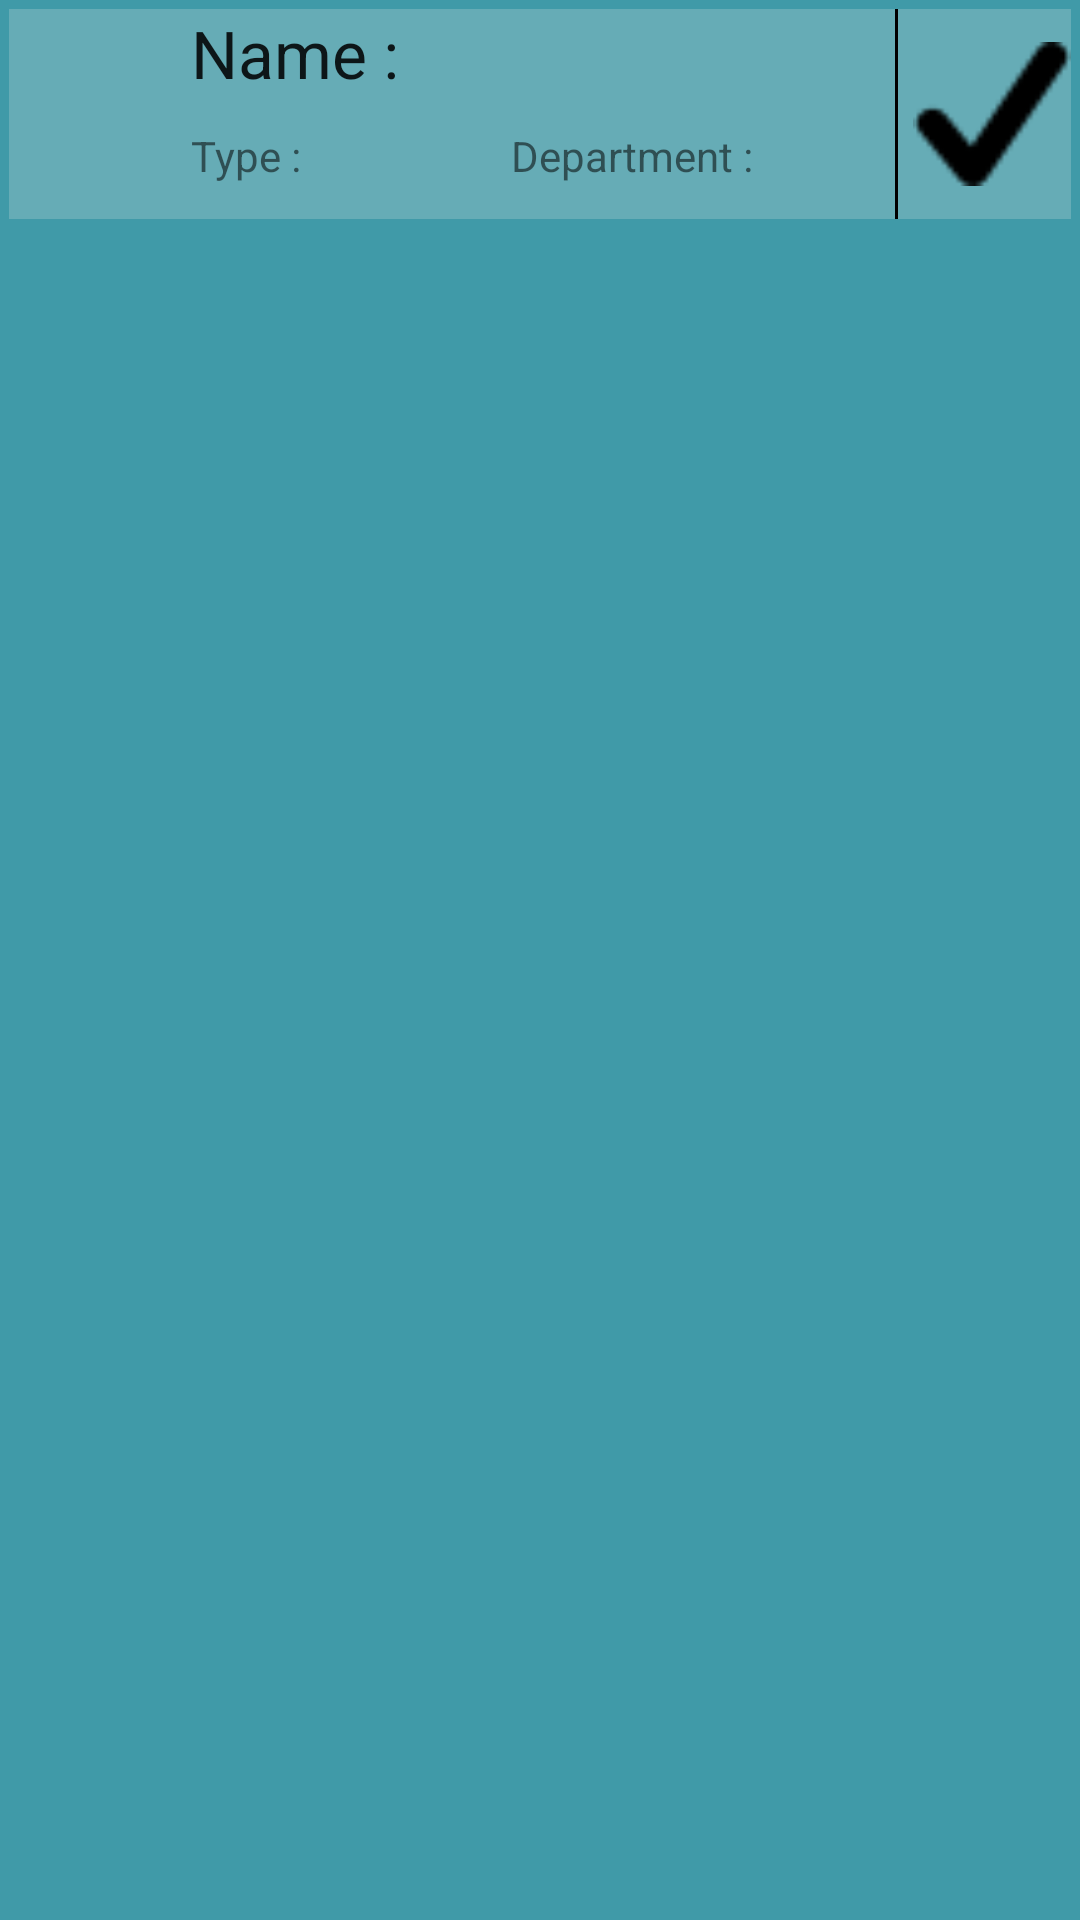

Screen size 1080*1920. Icon name, then its center in pixels as (x=x, y=y):
righticon: (x=992, y=114)
